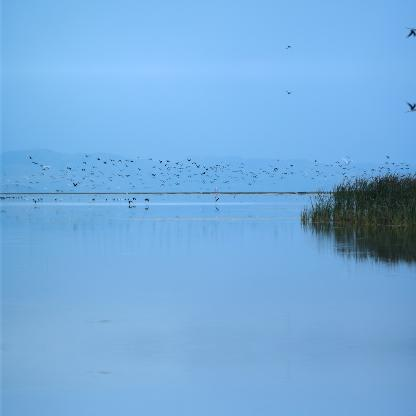Bird: (3, 156, 409, 198), (284, 88, 292, 94), (407, 102, 415, 108), (284, 44, 292, 50), (407, 30, 415, 36), (29, 154, 33, 158), (32, 160, 40, 162), (128, 200, 132, 204), (144, 196, 148, 200), (215, 195, 219, 199), (130, 196, 135, 198), (85, 153, 89, 155), (98, 157, 100, 159)
